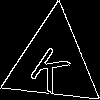K: (28, 38, 77, 95)
